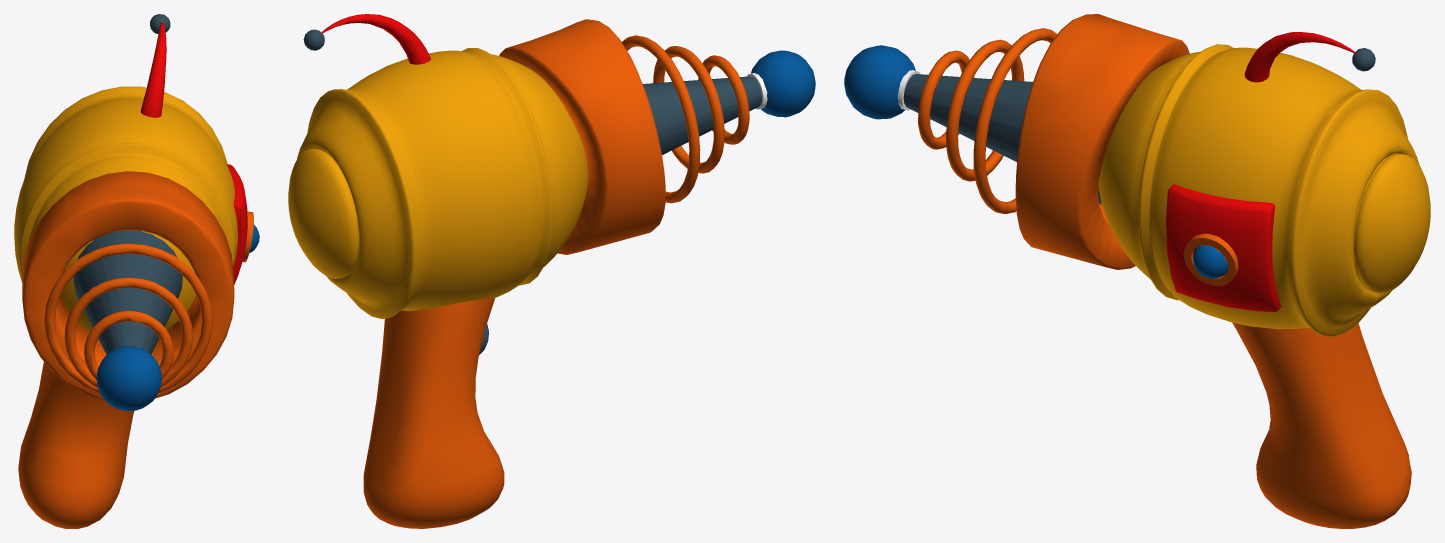
Rendered from Gun.fbx.
3 views of the same model, side by side, from view 1: azimuth 30°, elevation 25°; view 2: azimuth 150°, elevation 25°; view 3: azimuth 270°, elevation 25° (orthographic). The views are drawn at different scales.
Parts seen in each view (by area): view 1: Cone001_02 - Default_0.001; view 2: Cone001_02 - Default_0.001; view 3: Cone001_02 - Default_0.001.
Boxes of the visible parts, left/top/right/bottom form: Cone001_02 - Default_0.001: left=14, top=14, right=259, bottom=528; Cone001_02 - Default_0.001: left=288, top=14, right=815, bottom=528; Cone001_02 - Default_0.001: left=844, top=14, right=1430, bottom=528.
Bounding box in the file's own units: 2973 × 4281 × 4278.
